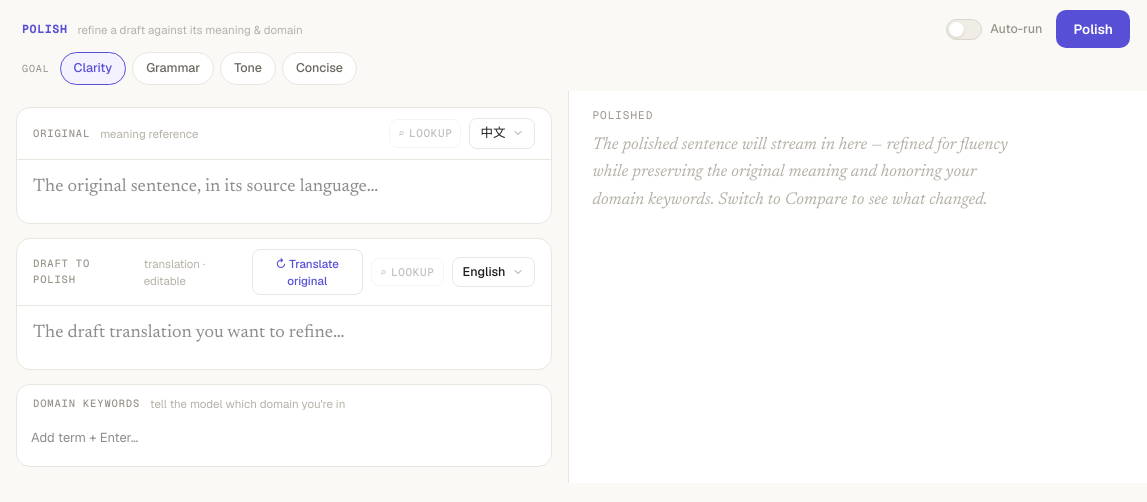
PolishPanel — auto-run › switches the primary button to "Run now" once auto-run is on (local, no cost gate)
What coordinates should you click on to do the following:
click the switch
I would click on:
 (994, 29)
Its box is 946,19 -> 1042,40.
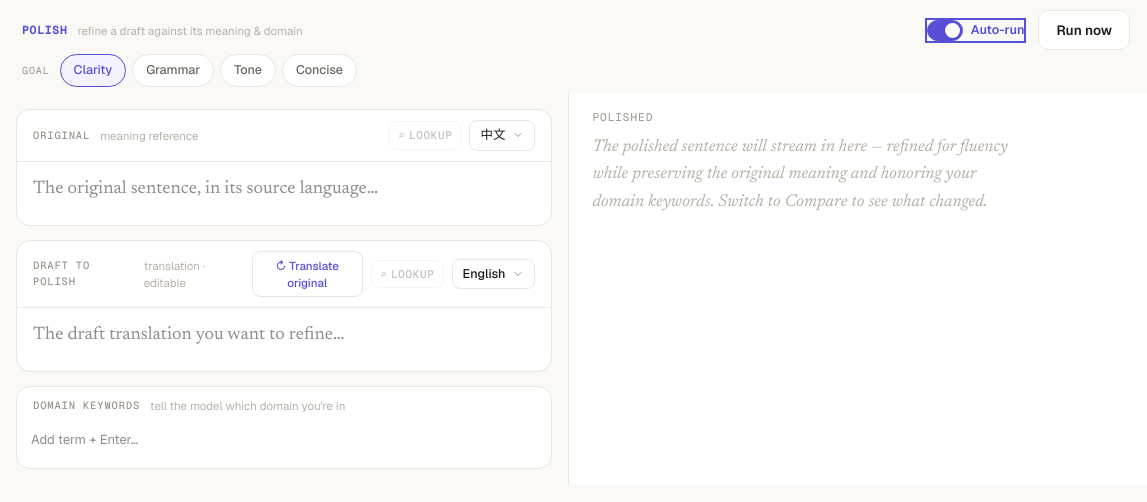
Result: the button "Run now" is shown at 1038,10 -> 1130,50
